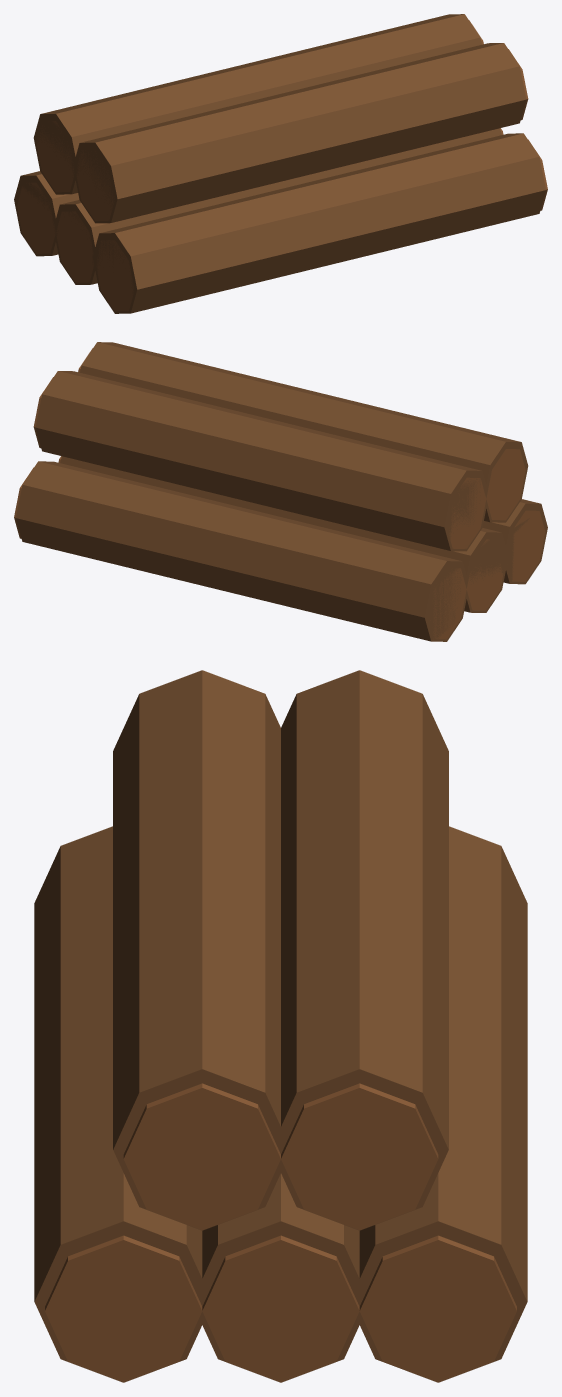
The model's file is tumpukan_kayu_v001.glb.
3 views of the same model, one above another, from view 1: azimuth 30°, elevation 25°; view 2: azimuth 150°, elevation 25°; view 3: azimuth 270°, elevation 25° (orthographic). The views are drawn at different scales.
Visible parts, largest first — view 1: Tumpukan_Kayu; view 2: Tumpukan_Kayu; view 3: Tumpukan_Kayu.
Part boxes in pixels (box(x1,y1,x2,y2)): Tumpukan_Kayu: box(14, 14, 547, 313); Tumpukan_Kayu: box(14, 342, 547, 641); Tumpukan_Kayu: box(34, 670, 527, 1382).
Size of the model in its own units: 1.82 by 0.66 by 0.94.
